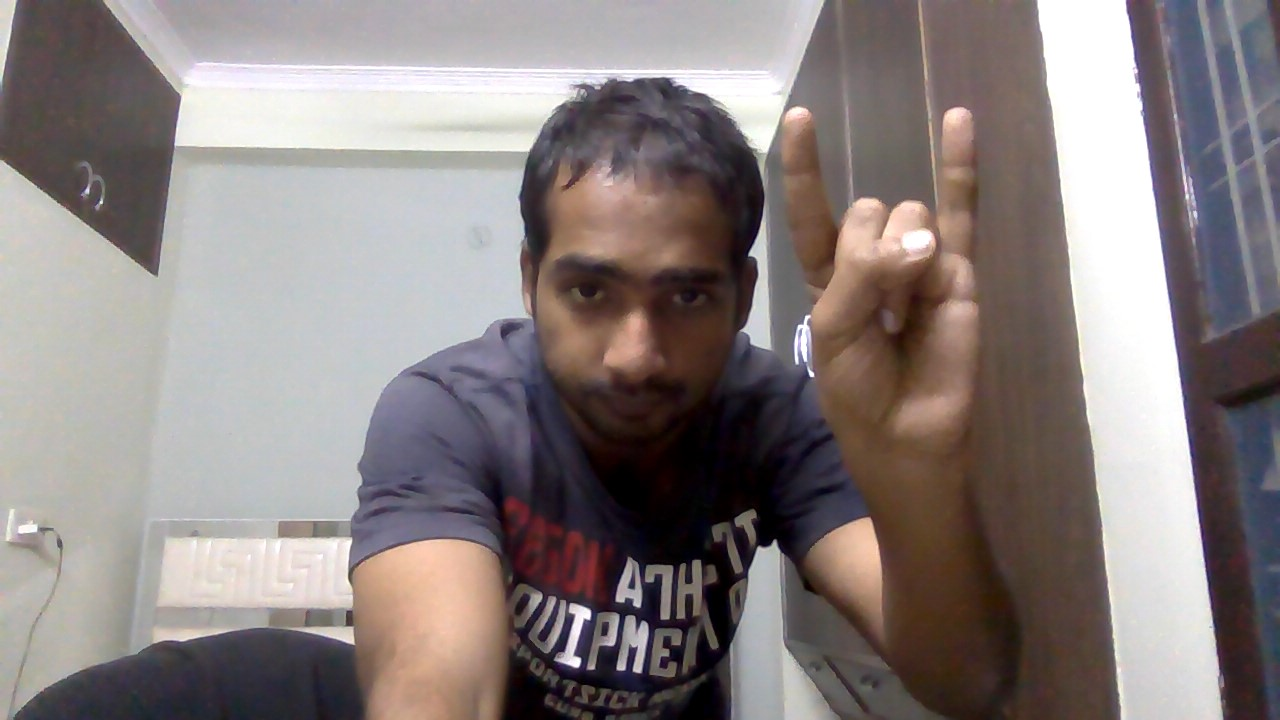Select All: (761, 92, 1004, 464)
